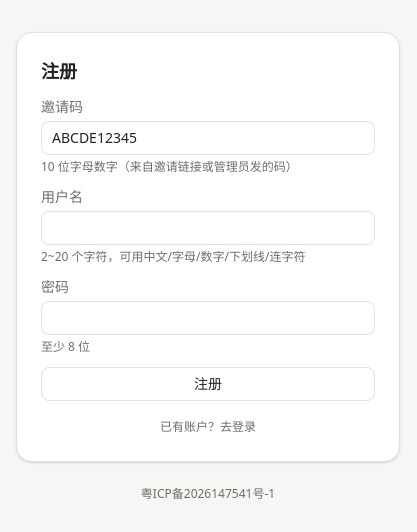
Test: 认证壳（006） › 注册失败显示 zod issues 的真话（A13：不再只显示「请求体不合法」）
Expected: the heading "注册" is shown, [41,59,77,83]
In the field labelled "用户名": coordinates (208, 228) [41,211,375,245], type "a"
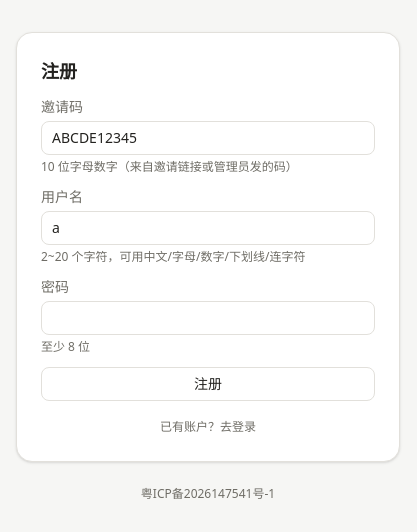
In the password field labelled "密码": coordinates (208, 318) [41,301,375,335], type "pw12345678"
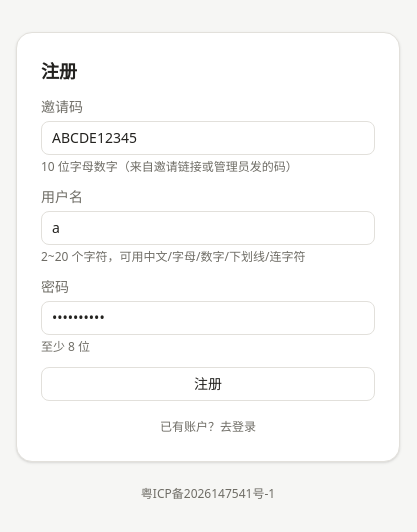
Click the button "注册": coordinates (208, 384) [41,367,375,401]
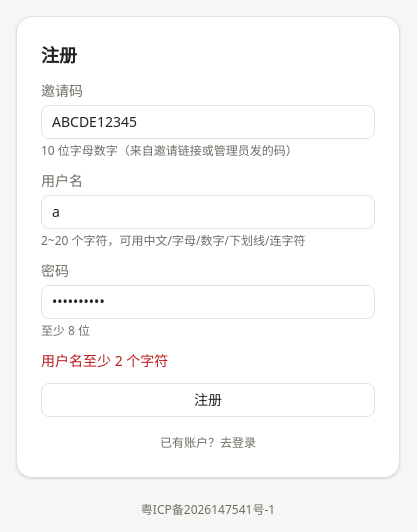
Now the text "用户名至少 2 个字符" is shown, box [41,351,168,370]
